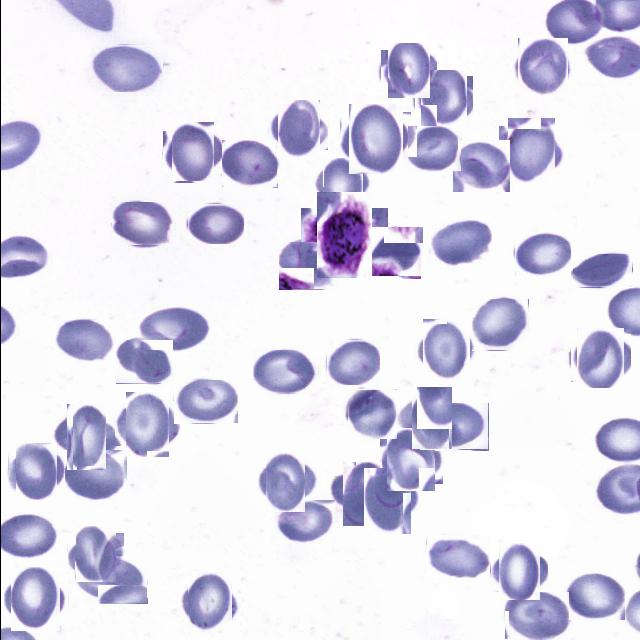gametocyte: (308, 200, 379, 271)
red blood cell: (344, 108, 406, 170), (74, 556, 147, 604), (90, 45, 162, 93), (6, 570, 64, 628), (419, 402, 488, 450), (358, 472, 416, 529), (60, 450, 126, 500), (502, 122, 559, 178), (382, 432, 438, 488), (417, 322, 473, 378), (504, 592, 569, 640), (120, 396, 174, 452), (428, 220, 491, 268), (564, 570, 624, 620), (140, 308, 211, 350), (471, 299, 528, 351), (451, 140, 508, 192), (573, 331, 627, 385), (515, 40, 569, 94), (252, 350, 318, 394), (173, 380, 238, 424), (183, 576, 236, 629), (59, 411, 112, 464), (369, 225, 422, 278), (278, 242, 336, 290), (425, 535, 489, 578), (110, 202, 172, 246), (336, 468, 388, 520), (404, 392, 456, 444), (166, 126, 218, 178), (417, 73, 469, 125), (221, 140, 277, 188), (274, 500, 334, 544), (272, 104, 323, 154), (53, 320, 113, 362), (115, 340, 172, 384), (494, 546, 544, 596), (10, 446, 60, 496), (260, 456, 310, 506), (346, 389, 396, 439), (326, 340, 380, 386), (407, 126, 461, 172), (514, 232, 570, 276), (383, 46, 432, 96), (187, 204, 244, 245), (71, 530, 119, 578), (318, 161, 366, 209), (572, 254, 632, 288)
